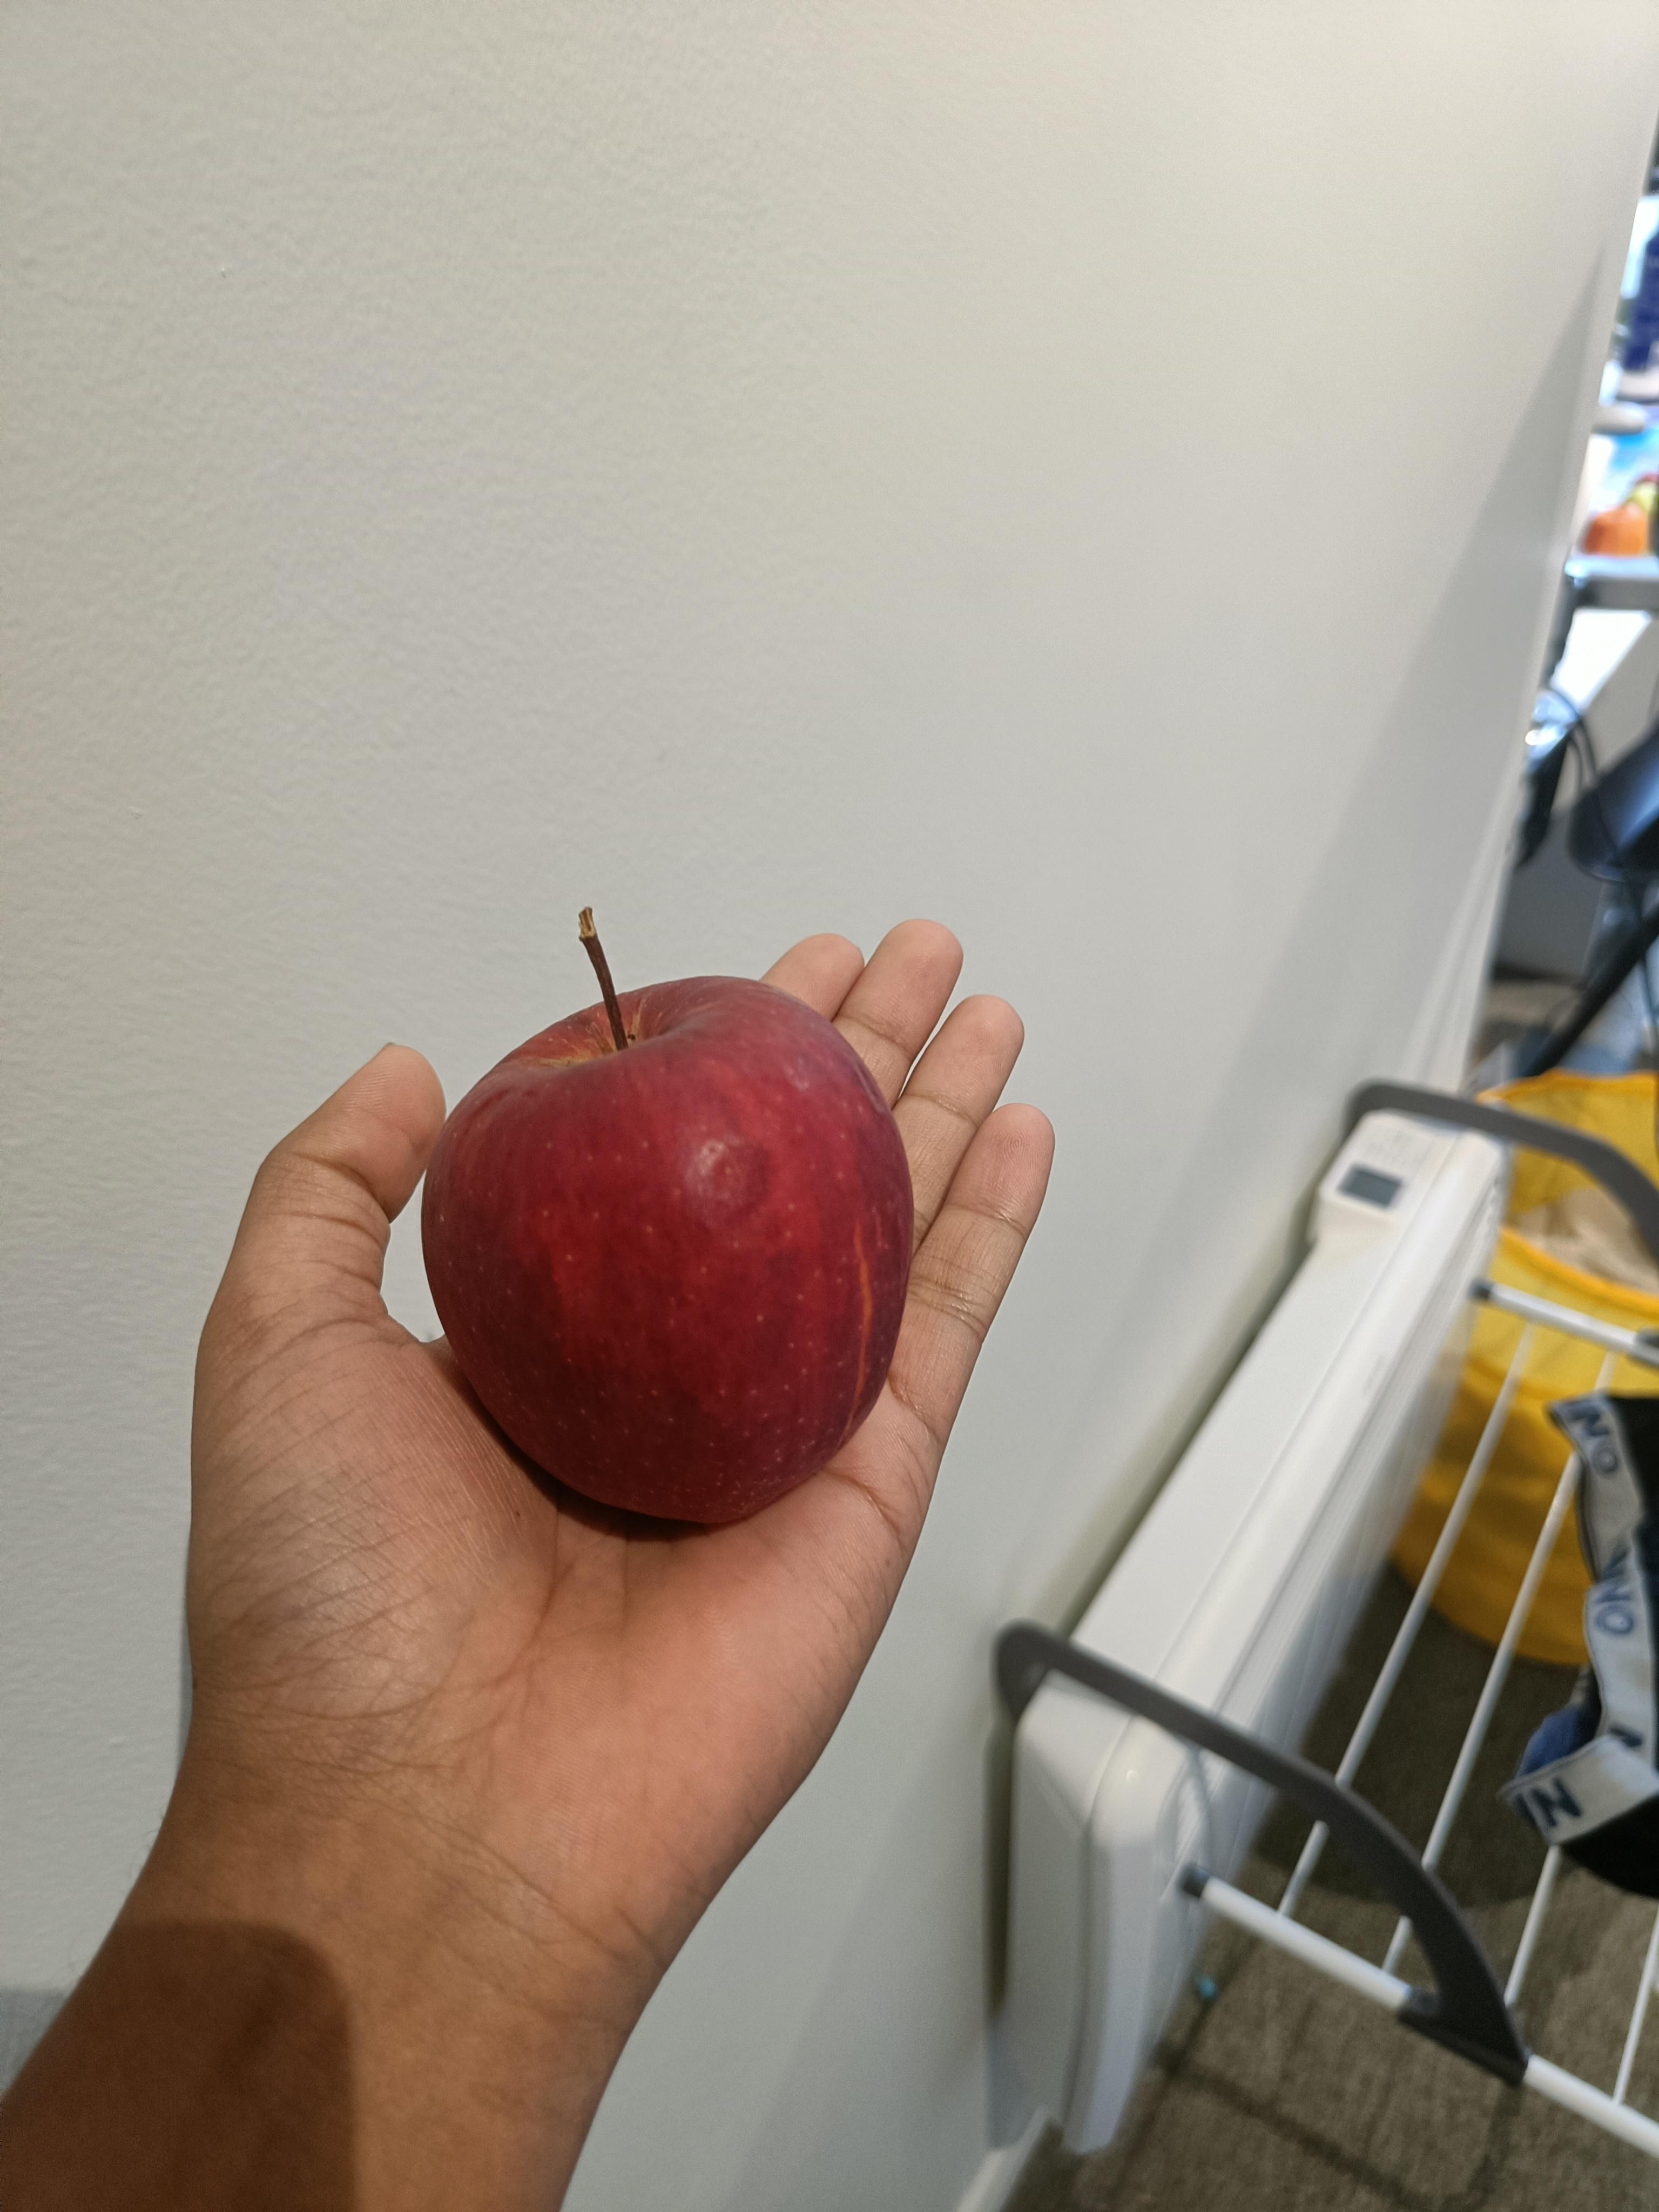Apple: (413, 887, 926, 1568)
